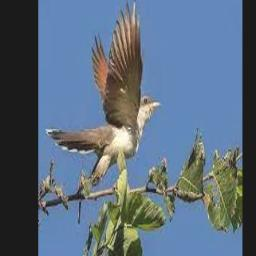Cuckoo: (45, 0, 162, 182)
